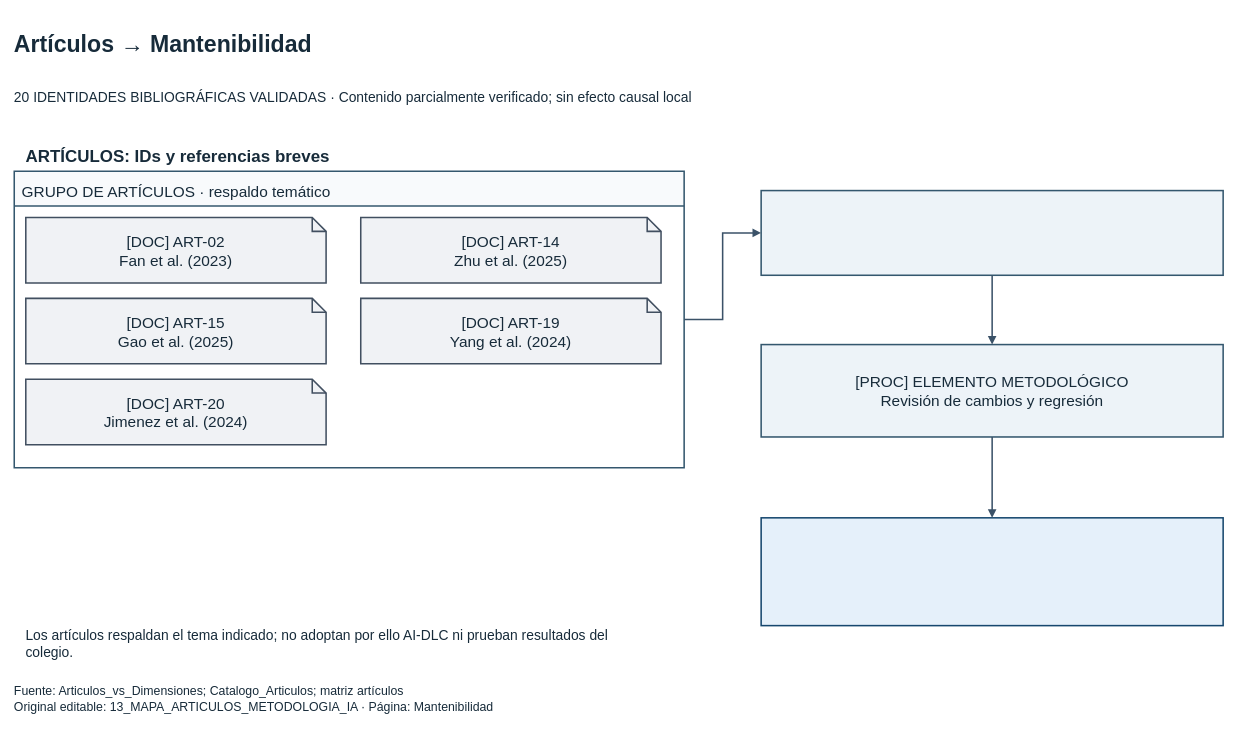
This 1259x736 diagram has some shape labels left out. The centre of each missing label's shape, as x and y in pixels:
"[PROC] DIMENSIÓN Mantenibilidad" goes at point (992, 232).
"[SIS] APLICACIÓN AL SaaS Mantenimiento y corrección acotada de hallazgos" goes at point (992, 571).
